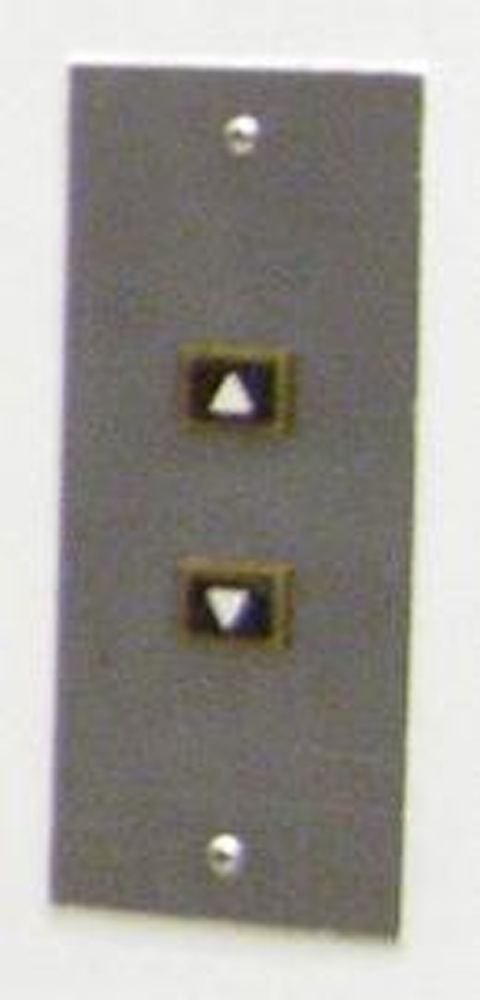down: (166, 551, 299, 662)
up: (169, 338, 294, 443)
